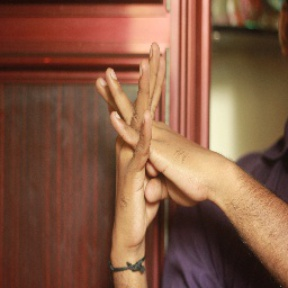W: (82, 42, 227, 209)
